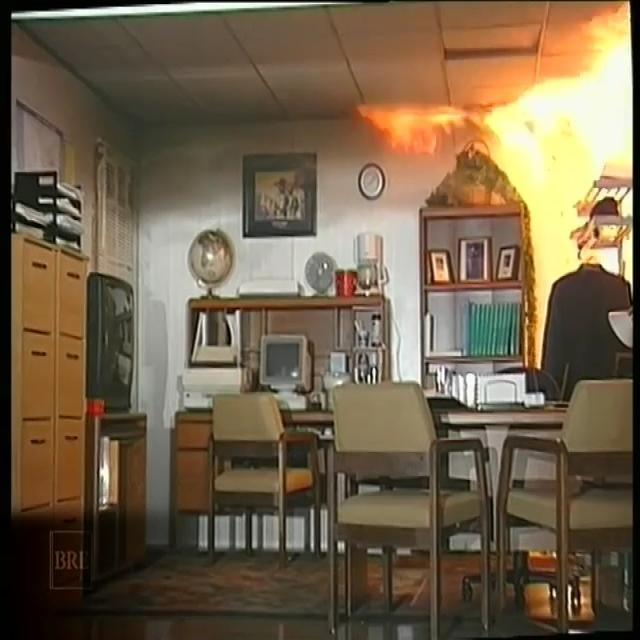Fire: (350, 2, 636, 314)
